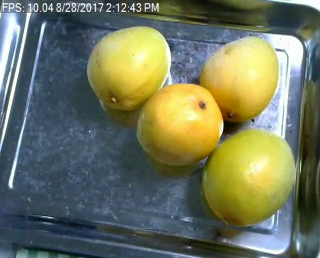Mango: (203, 128, 295, 227), (136, 83, 224, 165), (88, 24, 172, 108), (202, 34, 282, 119)
